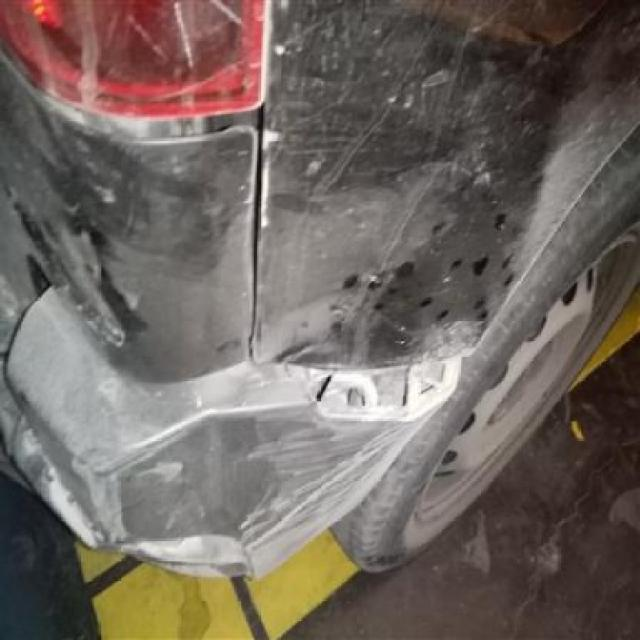car damage: (107, 394, 418, 592), (281, 237, 544, 366)
